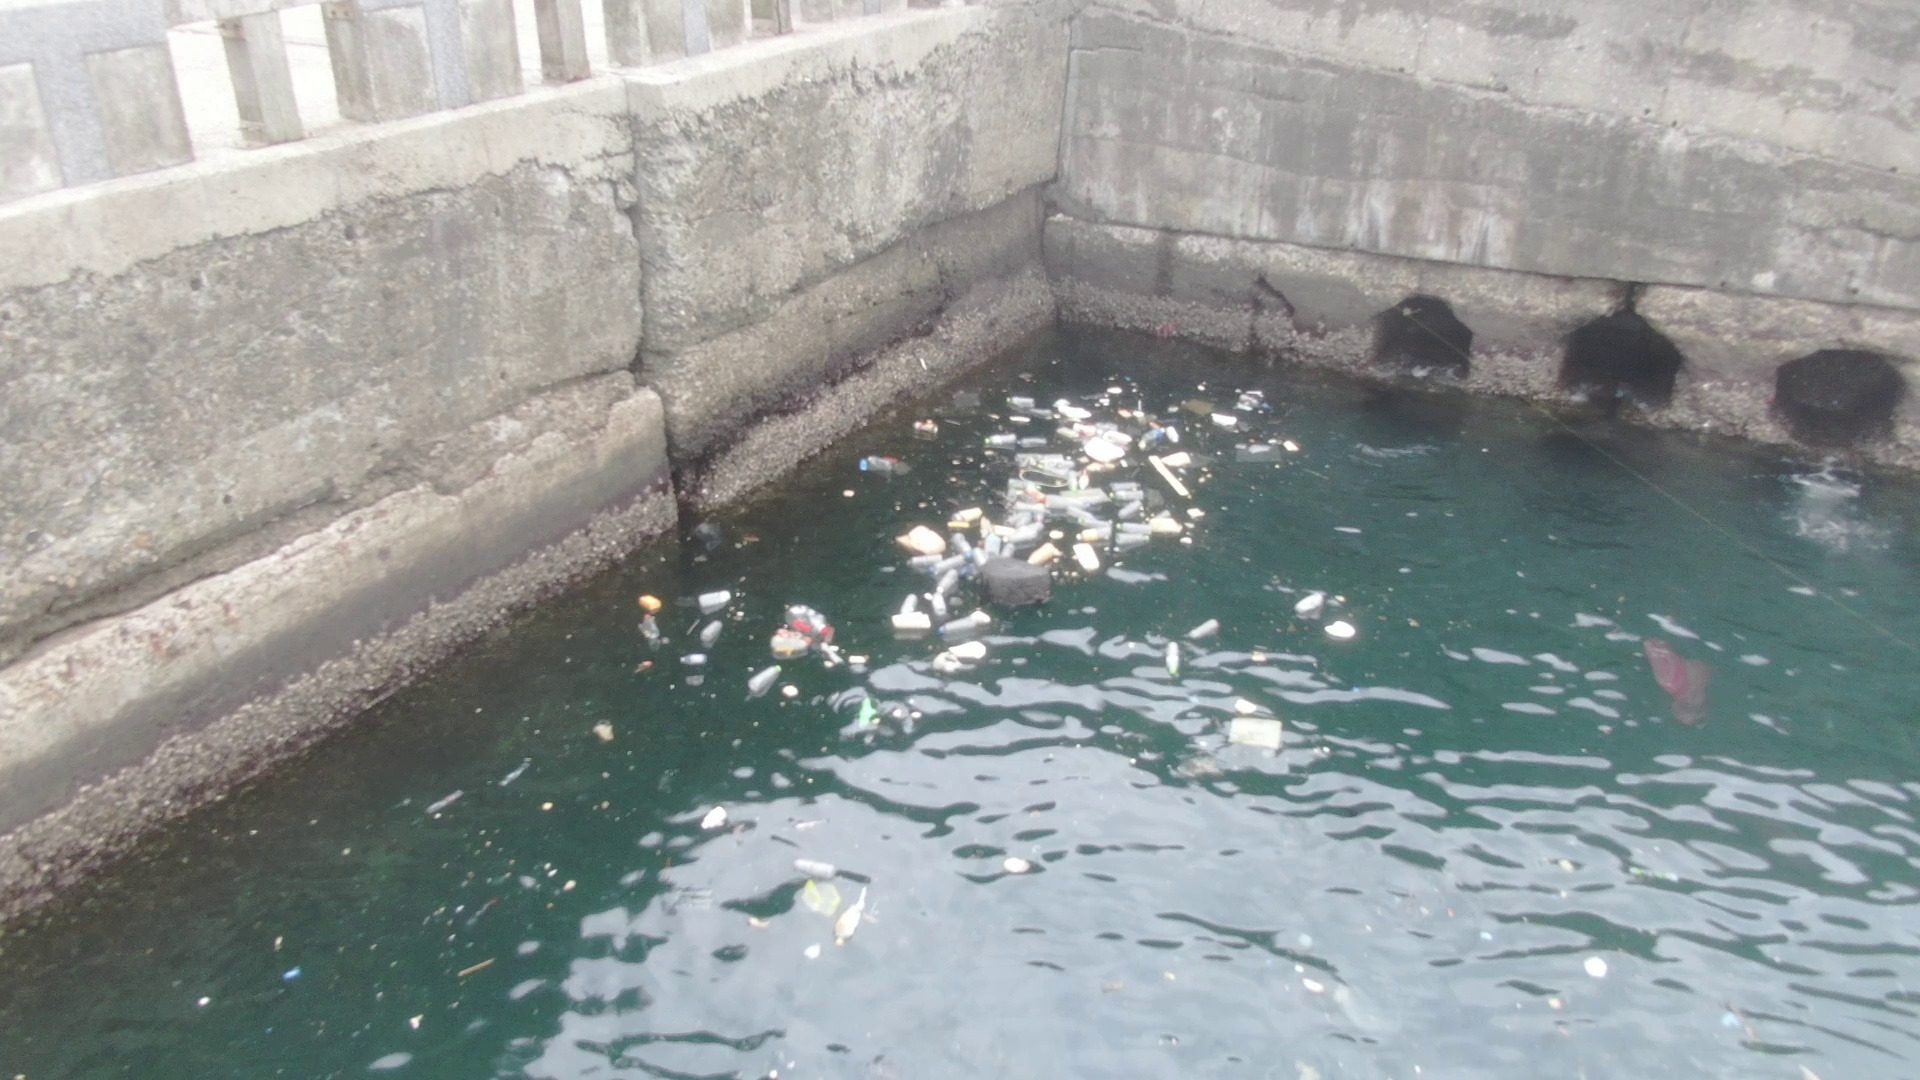garbage: (603, 360, 1361, 765), (1636, 618, 1731, 733)
